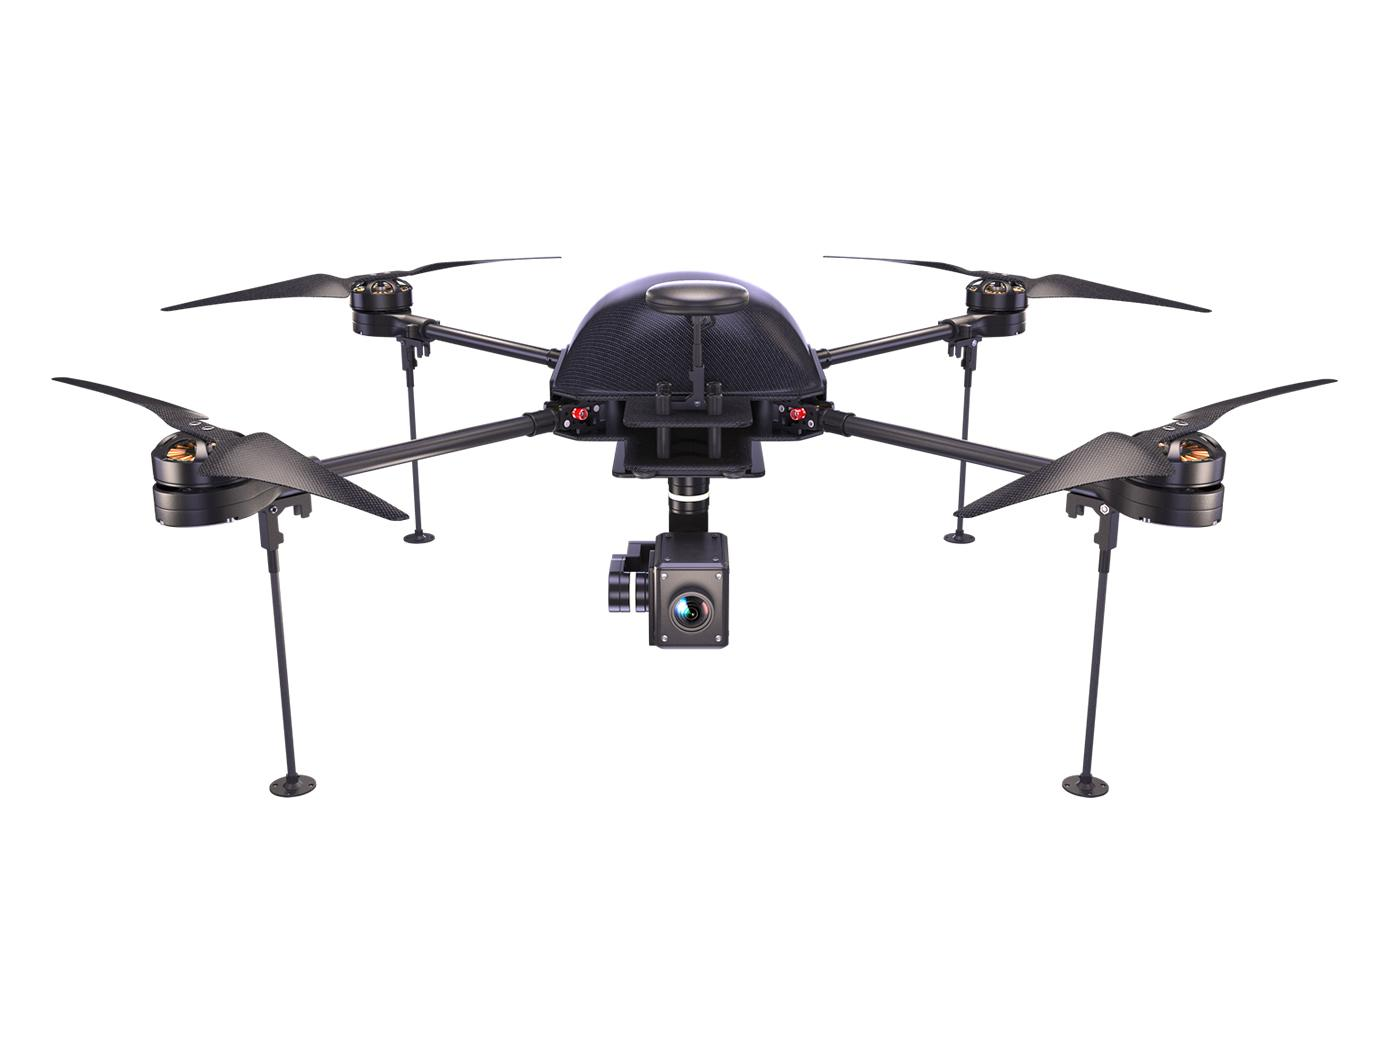drone: (64, 223, 1356, 709)
